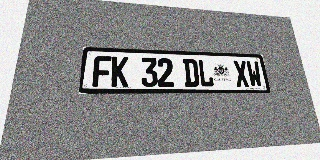2: (157, 58, 174, 87)
3: (141, 57, 158, 87)
D: (183, 59, 200, 87)
F: (92, 56, 111, 87)
K: (111, 56, 128, 87)
L: (197, 59, 214, 87)
W: (246, 61, 263, 87)
X: (233, 60, 250, 87)
